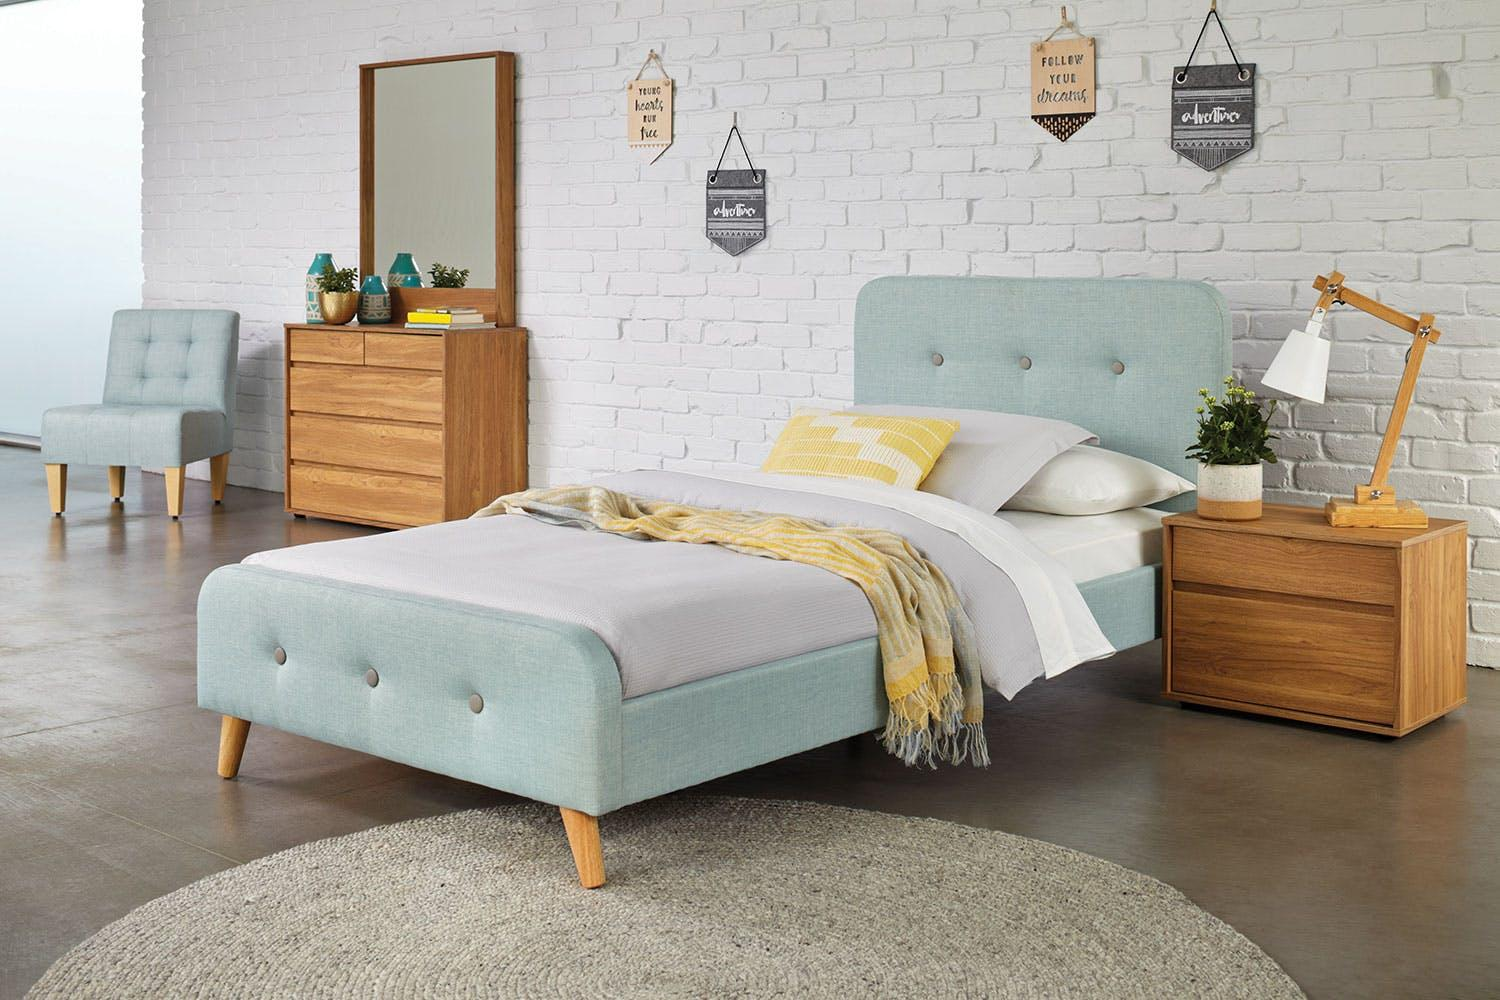bed: (407, 335, 1090, 655)
